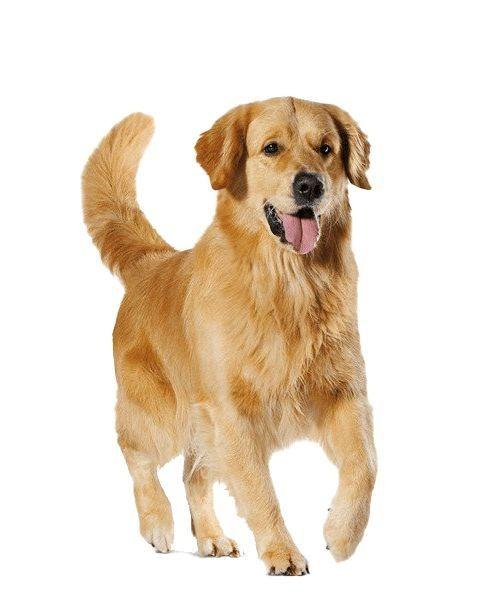adult_dog: (78, 94, 380, 577)
